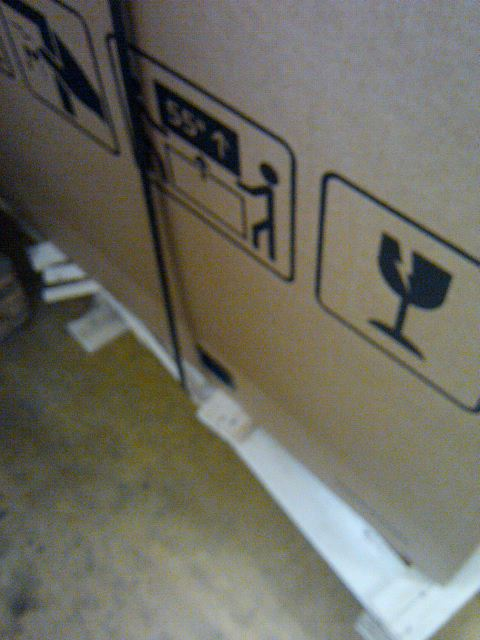package: (0, 0, 480, 580)
